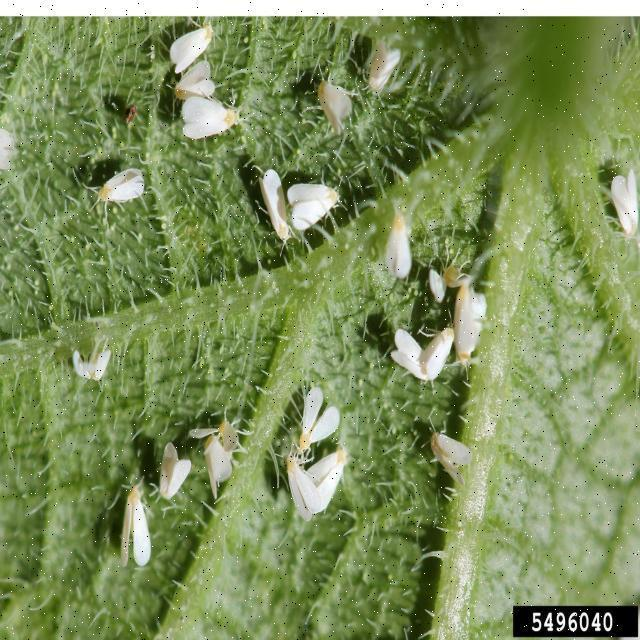Whiteflies: (446, 249, 497, 403), (172, 86, 256, 173), (237, 145, 298, 263), (200, 399, 256, 517), (376, 193, 428, 320), (383, 307, 438, 412), (285, 150, 339, 255), (71, 334, 134, 421), (276, 432, 349, 507), (151, 426, 203, 527), (160, 16, 234, 86), (291, 372, 359, 442), (93, 147, 151, 228), (116, 471, 162, 568), (427, 416, 476, 498), (315, 55, 359, 137), (361, 25, 411, 95), (419, 297, 455, 391)
